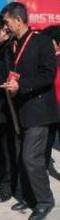boots: (11, 200, 28, 210), (0, 172, 12, 183)
hard-hat: (0, 73, 11, 99)
